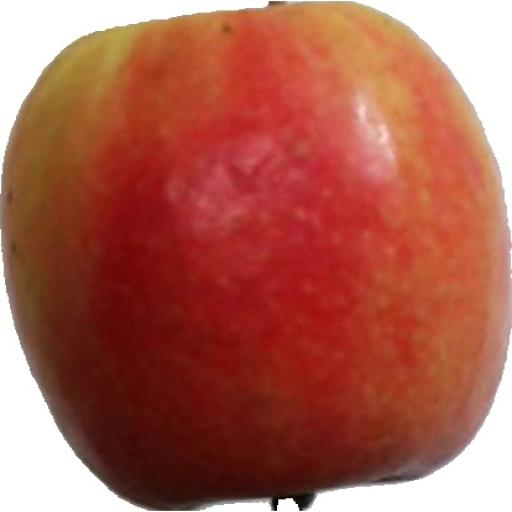apple-ripe: (0, 0, 512, 462)
